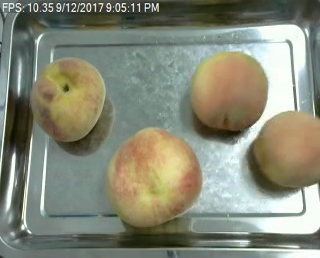Peach: (108, 126, 202, 229), (30, 58, 105, 144), (191, 51, 269, 131), (252, 110, 319, 188)
